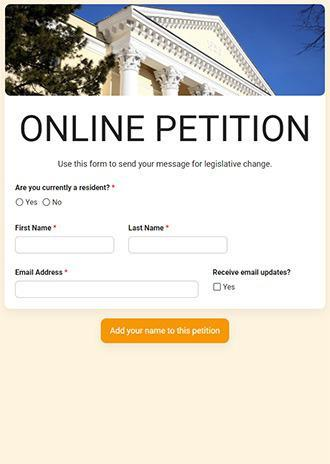button: (103, 320, 230, 344)
checkbox: (215, 283, 222, 292)
input: (17, 282, 199, 297), (16, 238, 115, 254), (130, 238, 228, 254)
label: (15, 182, 118, 195), (212, 269, 292, 278), (16, 268, 69, 278), (127, 223, 171, 233), (16, 224, 58, 234), (25, 198, 39, 208), (52, 199, 64, 208), (224, 283, 236, 291)
radio: (16, 199, 25, 208), (43, 199, 51, 208)
